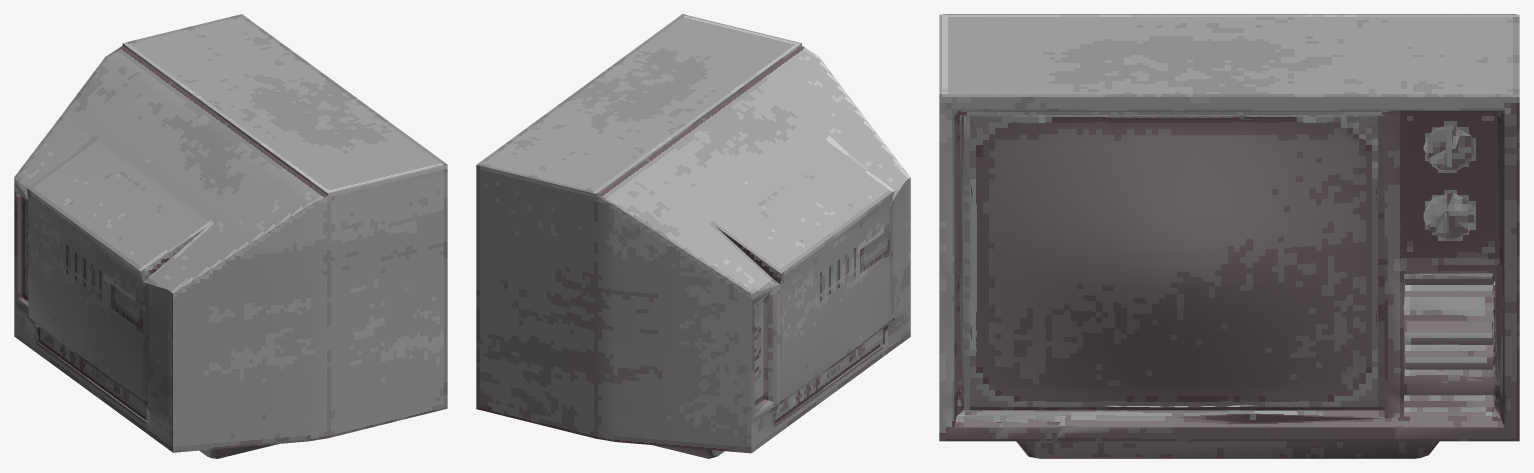
The model's file is tv_crt.glb.
The picture shows the model from 3 angles, left to right: view 1: azimuth 30°, elevation 25°; view 2: azimuth 150°, elevation 25°; view 3: azimuth 270°, elevation 25°; orthographic projection. The views are drawn at different scales.
Visible parts, largest first — view 1: mesh; view 2: mesh; view 3: mesh.
Part boxes in pixels (left/top/right/bottom): mesh: left=14, top=14, right=447, bottom=458; mesh: left=476, top=14, right=910, bottom=458; mesh: left=939, top=14, right=1519, bottom=458.
Size of the model in its own units: 0.4309 by 0.42 by 0.5778.
Materials: 1 (1 with a texture image).
